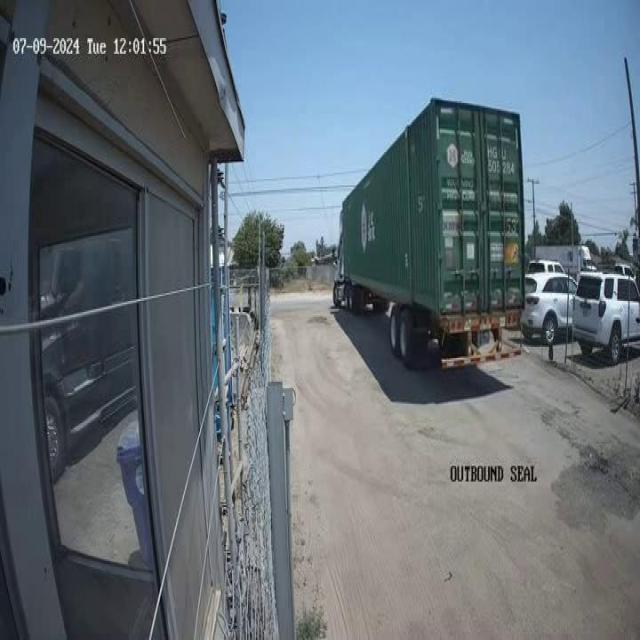TRUCK_OUT: (332, 95, 526, 369)
